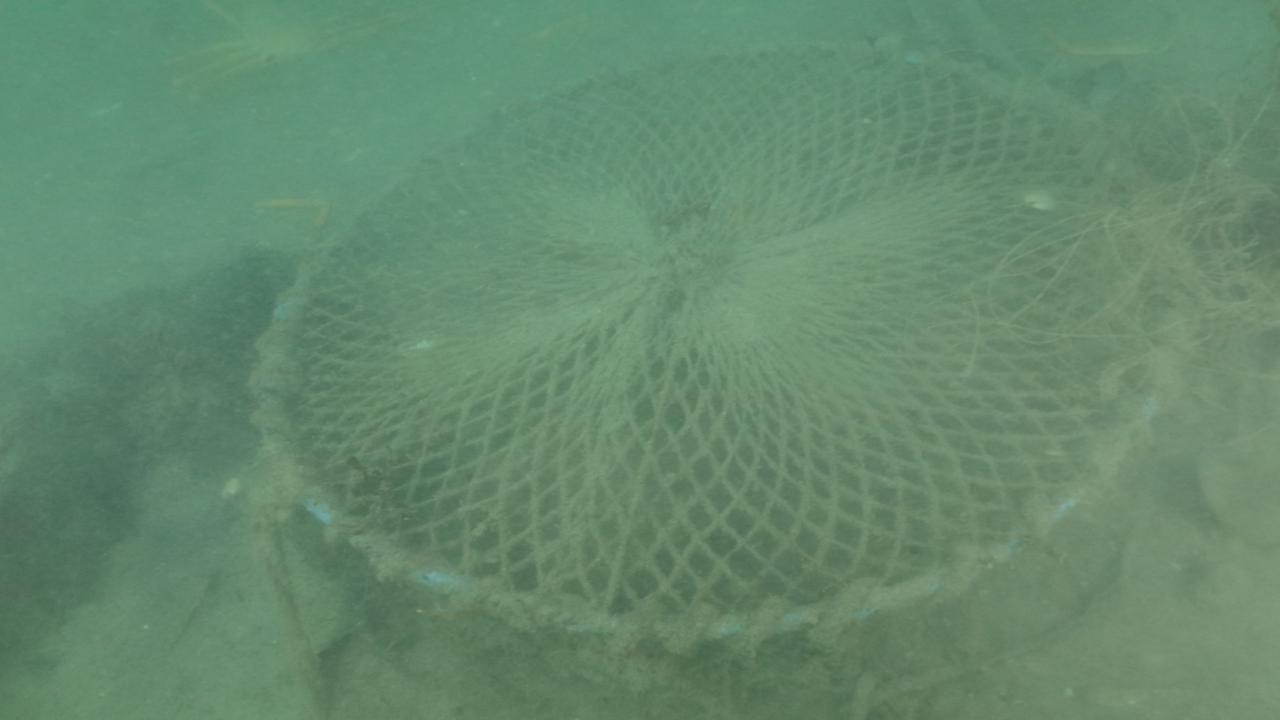circular fish trap: (238, 33, 1214, 659)
